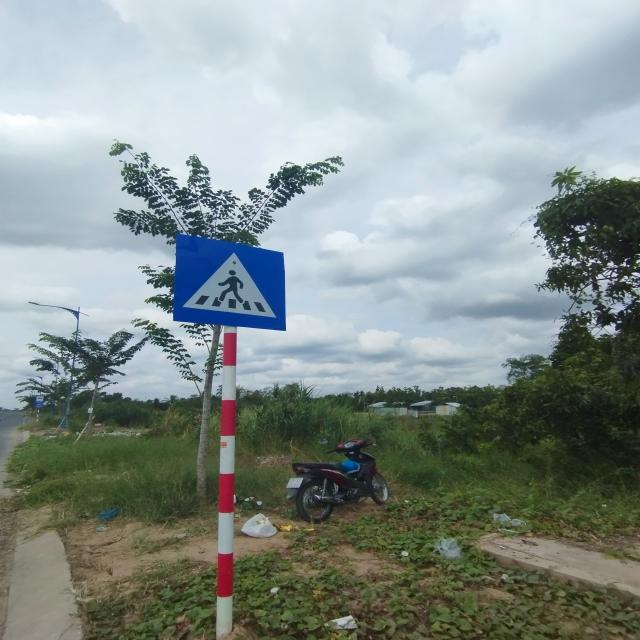Giao_Nhau_Duong_Uu_Tien: (172, 234, 287, 332)
